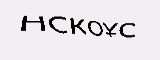К: (67, 14, 89, 37)
Н: (19, 14, 46, 32)
О: (88, 17, 106, 39)
С: (46, 15, 69, 35), (119, 19, 139, 41)
Ұ: (101, 19, 119, 40)
